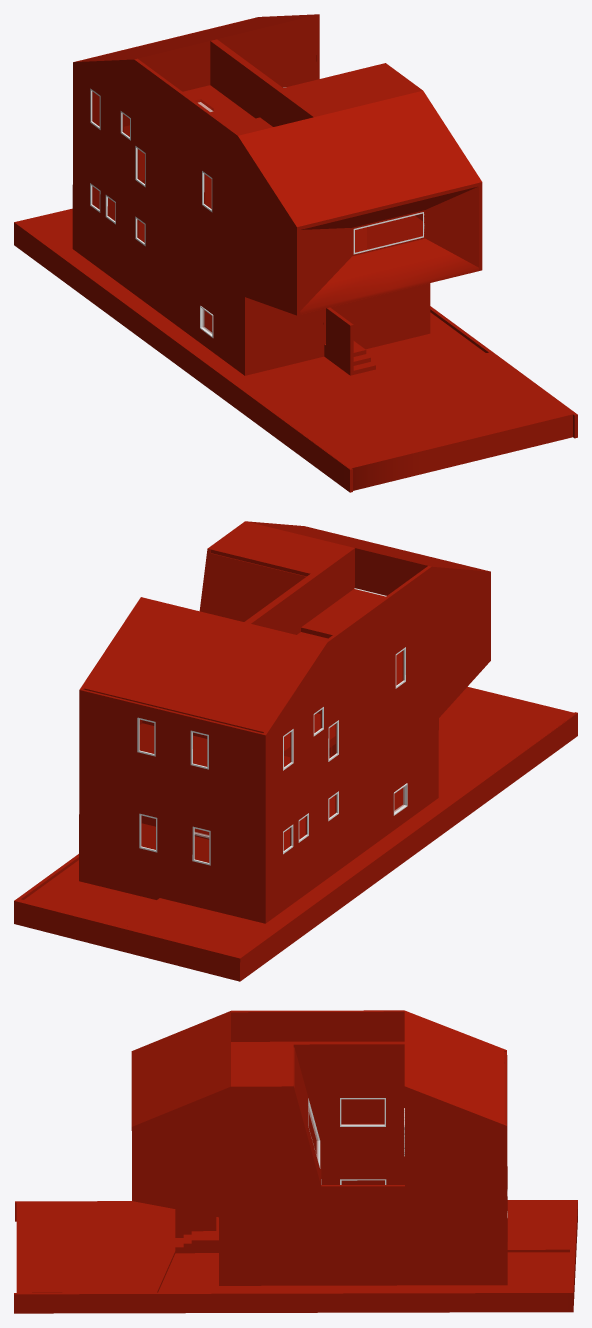
The model's file is asset.glb.
3 views of the same model, one above another, from view 1: azimuth 30°, elevation 25°; view 2: azimuth 150°, elevation 25°; view 3: azimuth 270°, elevation 25° (orthographic). The views are drawn at different scales.
Parts seen in each view (by area): view 1: 3D_FACADE_BLACK, 3D_FIRST FLOOR, 3D_FACADE_REFLECTIVE, 3D_SURROUNDING CONTEXT, 3D_WALL, 3D_FLOOR, 3D_WINDOW FRAMES, 3D_FACADE_REFLECTIVE.001, 3D_TURF, 3d_Glass, Windows frames, 3D_FACADE_WHITE; view 2: 3D_FACADE_BLACK, 3D_FIRST FLOOR, 3D_SURROUNDING CONTEXT, 3D_FACADE_WHITE, 3D_TURF, 3D_FLOOR, 3D_WINDOW FRAMES, 3d_Glass, Windows frames, 3D_WALL; view 3: 3D_FACADE_BLACK, 3D_FIRST FLOOR, 3D_SURROUNDING CONTEXT, 3D_FACADE_WHITE, 3D_TURF, 3d_Glass, Windows frames.
Boxes of the visible parts, left/top/right/bottom form: 3D_FACADE_BLACK: left=72, top=14, right=482, bottom=363; 3D_FIRST FLOOR: left=31, top=212, right=572, bottom=490; 3D_FACADE_REFLECTIVE: left=300, top=186, right=478, bottom=314; 3D_SURROUNDING CONTEXT: left=14, top=208, right=577, bottom=492; 3D_WALL: left=141, top=18, right=316, bottom=91; 3D_FLOOR: left=124, top=85, right=422, bottom=252; 3D_WINDOW FRAMES: left=210, top=44, right=309, bottom=126; 3D_FACADE_REFLECTIVE.001: left=425, top=186, right=478, bottom=267; 3D_TURF: left=366, top=312, right=485, bottom=369; 3d_Glass: left=92, top=92, right=422, bottom=251; Windows frames: left=90, top=87, right=425, bottom=337; 3D_FACADE_WHITE: left=210, top=39, right=282, bottom=91; 3D_FACADE_BLACK: left=79, top=521, right=490, bottom=911; 3D_FIRST FLOOR: left=79, top=686, right=575, bottom=950; 3D_SURROUNDING CONTEXT: left=14, top=712, right=577, bottom=981; 3D_FACADE_WHITE: left=203, top=553, right=317, bottom=756; 3D_TURF: left=24, top=860, right=156, bottom=924; 3D_FLOOR: left=139, top=588, right=386, bottom=766; 3D_WINDOW FRAMES: left=254, top=552, right=354, bottom=634; 3d_Glass: left=140, top=650, right=403, bottom=862; Windows frames: left=137, top=647, right=407, bottom=865; 3D_WALL: left=142, top=551, right=424, bottom=839; 3D_FACADE_BLACK: left=131, top=1010, right=507, bottom=1272; 3D_FIRST FLOOR: left=16, top=1201, right=571, bottom=1292; 3D_SURROUNDING CONTEXT: left=14, top=1200, right=577, bottom=1313; 3D_FACADE_WHITE: left=293, top=1041, right=404, bottom=1184; 3D_TURF: left=158, top=1252, right=569, bottom=1292; 3d_Glass: left=309, top=1099, right=384, bottom=1184; Windows frames: left=308, top=1098, right=507, bottom=1217.
Bounding box in the file's own units: 17.64 × 19.19 × 45.19.
